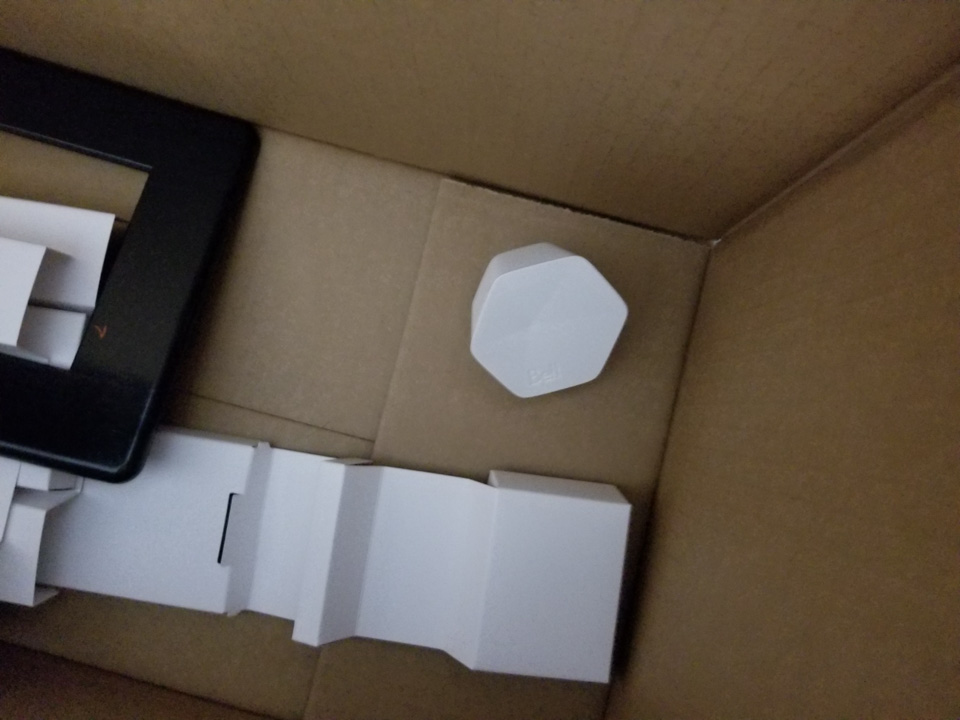pod: (466, 238, 631, 402)
